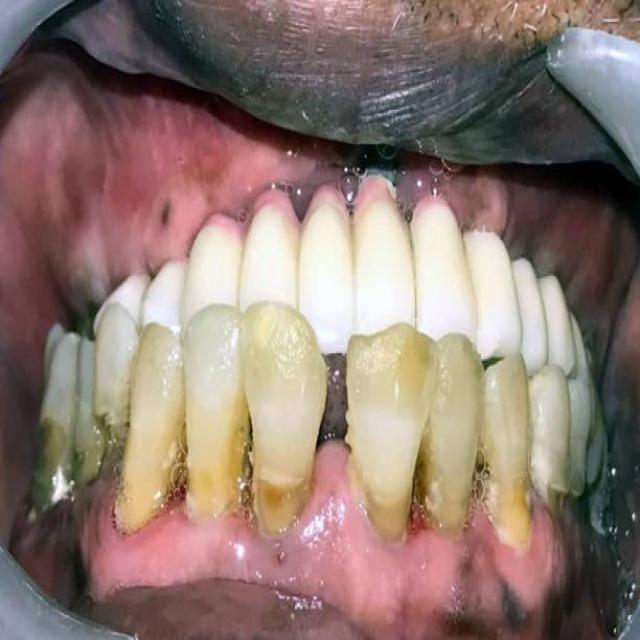caries: (249, 459, 315, 538), (26, 415, 74, 520), (76, 398, 123, 491), (549, 469, 596, 542)
